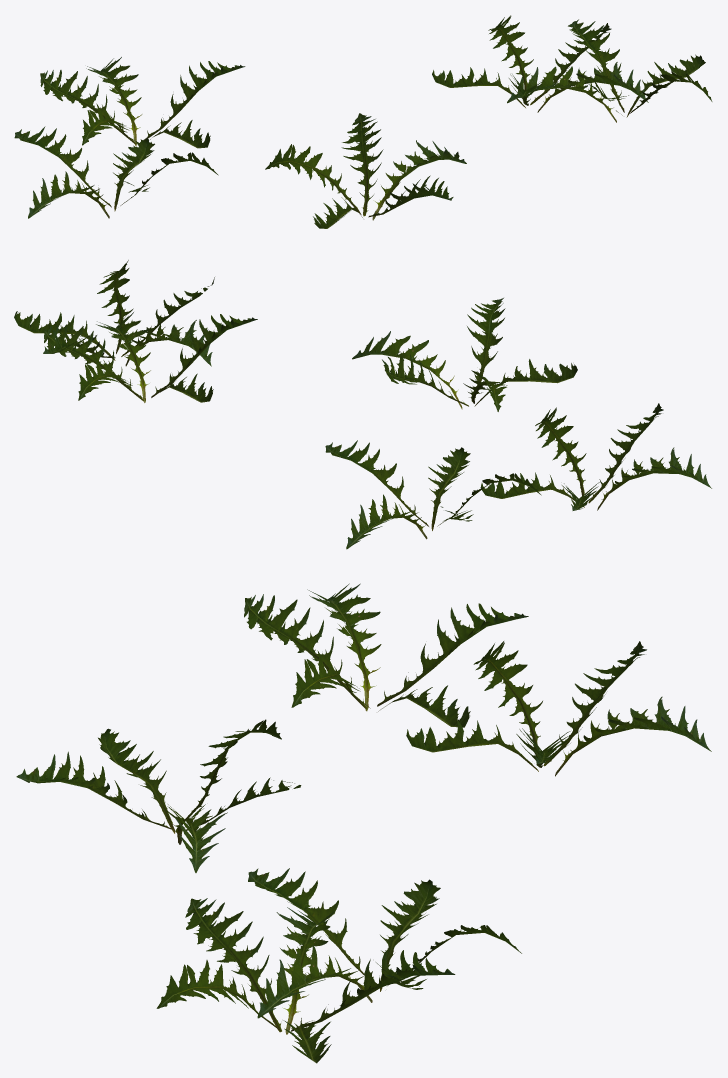
Rendered from Weed 02 Variant 2.fbx.
The picture shows the model from 3 angles, top to bottom: view 1: azimuth 30°, elevation 25°; view 2: azimuth 150°, elevation 25°; view 3: azimuth 270°, elevation 25°; orthographic projection. The views are drawn at different scales.
Visible parts, largest first — view 1: weed_02_2_LOD0; view 2: weed_02_2_LOD0; view 3: weed_02_2_LOD0.
Boxes of the visible parts, x1=… form: weed_02_2_LOD0: x1=14, y1=15, x2=712, y2=228; weed_02_2_LOD0: x1=14, y1=260, x2=711, y2=549; weed_02_2_LOD0: x1=16, y1=583, x2=711, y2=1063.
Size of what is drawn, in the model's own units: 117 by 12.72 by 76.12.
1 material, 1 textured.
